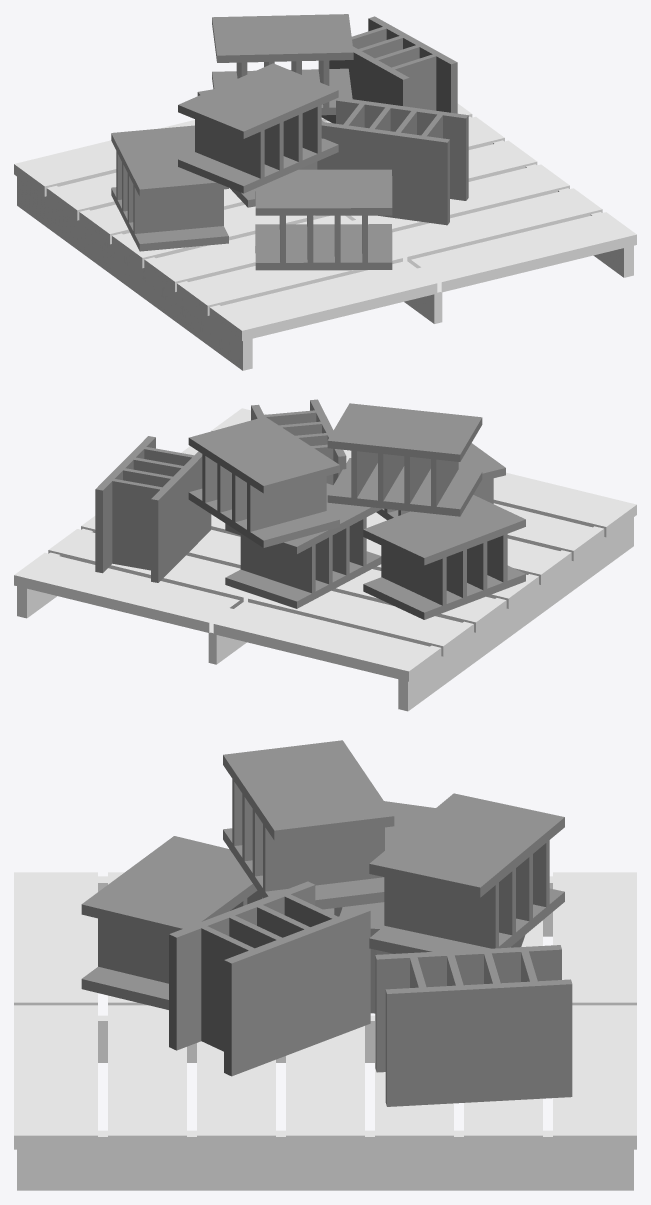
The model's file is WoodenPlank&Break2_3.fbx.
3 views of the same model, one above another, from view 1: azimuth 30°, elevation 25°; view 2: azimuth 150°, elevation 25°; view 3: azimuth 270°, elevation 25° (orthographic). The views are drawn at different scales.
Visible parts, largest first — view 1: Cube.005; view 2: Cube.005; view 3: Cube.005.
Part boxes in pixels (left/top/right/bottom): Cube.005: left=14, top=14, right=636, bottom=370; Cube.005: left=14, top=399, right=636, bottom=711; Cube.005: left=14, top=740, right=636, bottom=1190.
Size of the model in its own units: 200 by 80.1 by 200.
